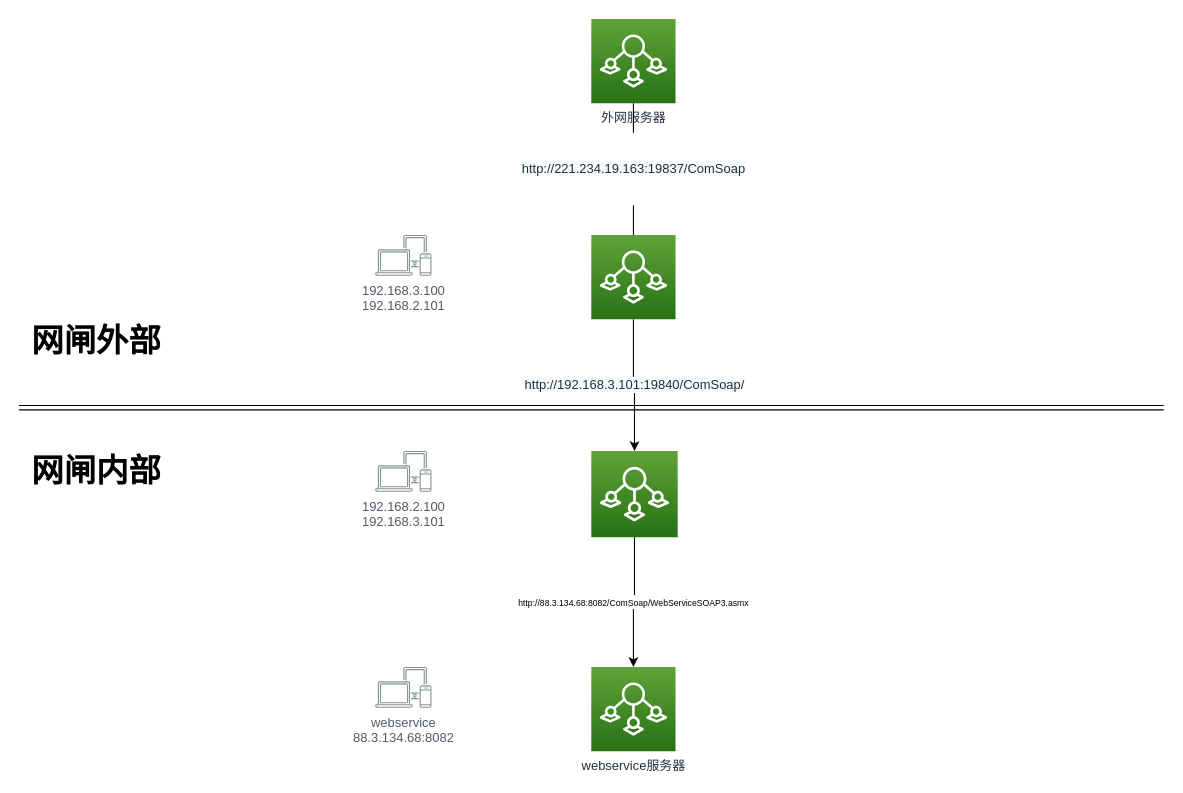
The diagram is 1183 pixels wide and 793 high, and some of its shapes have lost their labels. Here are the shapes that lost their labels. From the top down, the centre of each, then its label:
the point at 633,276: 应用服务器
the point at 634,493: 数据库服务器
